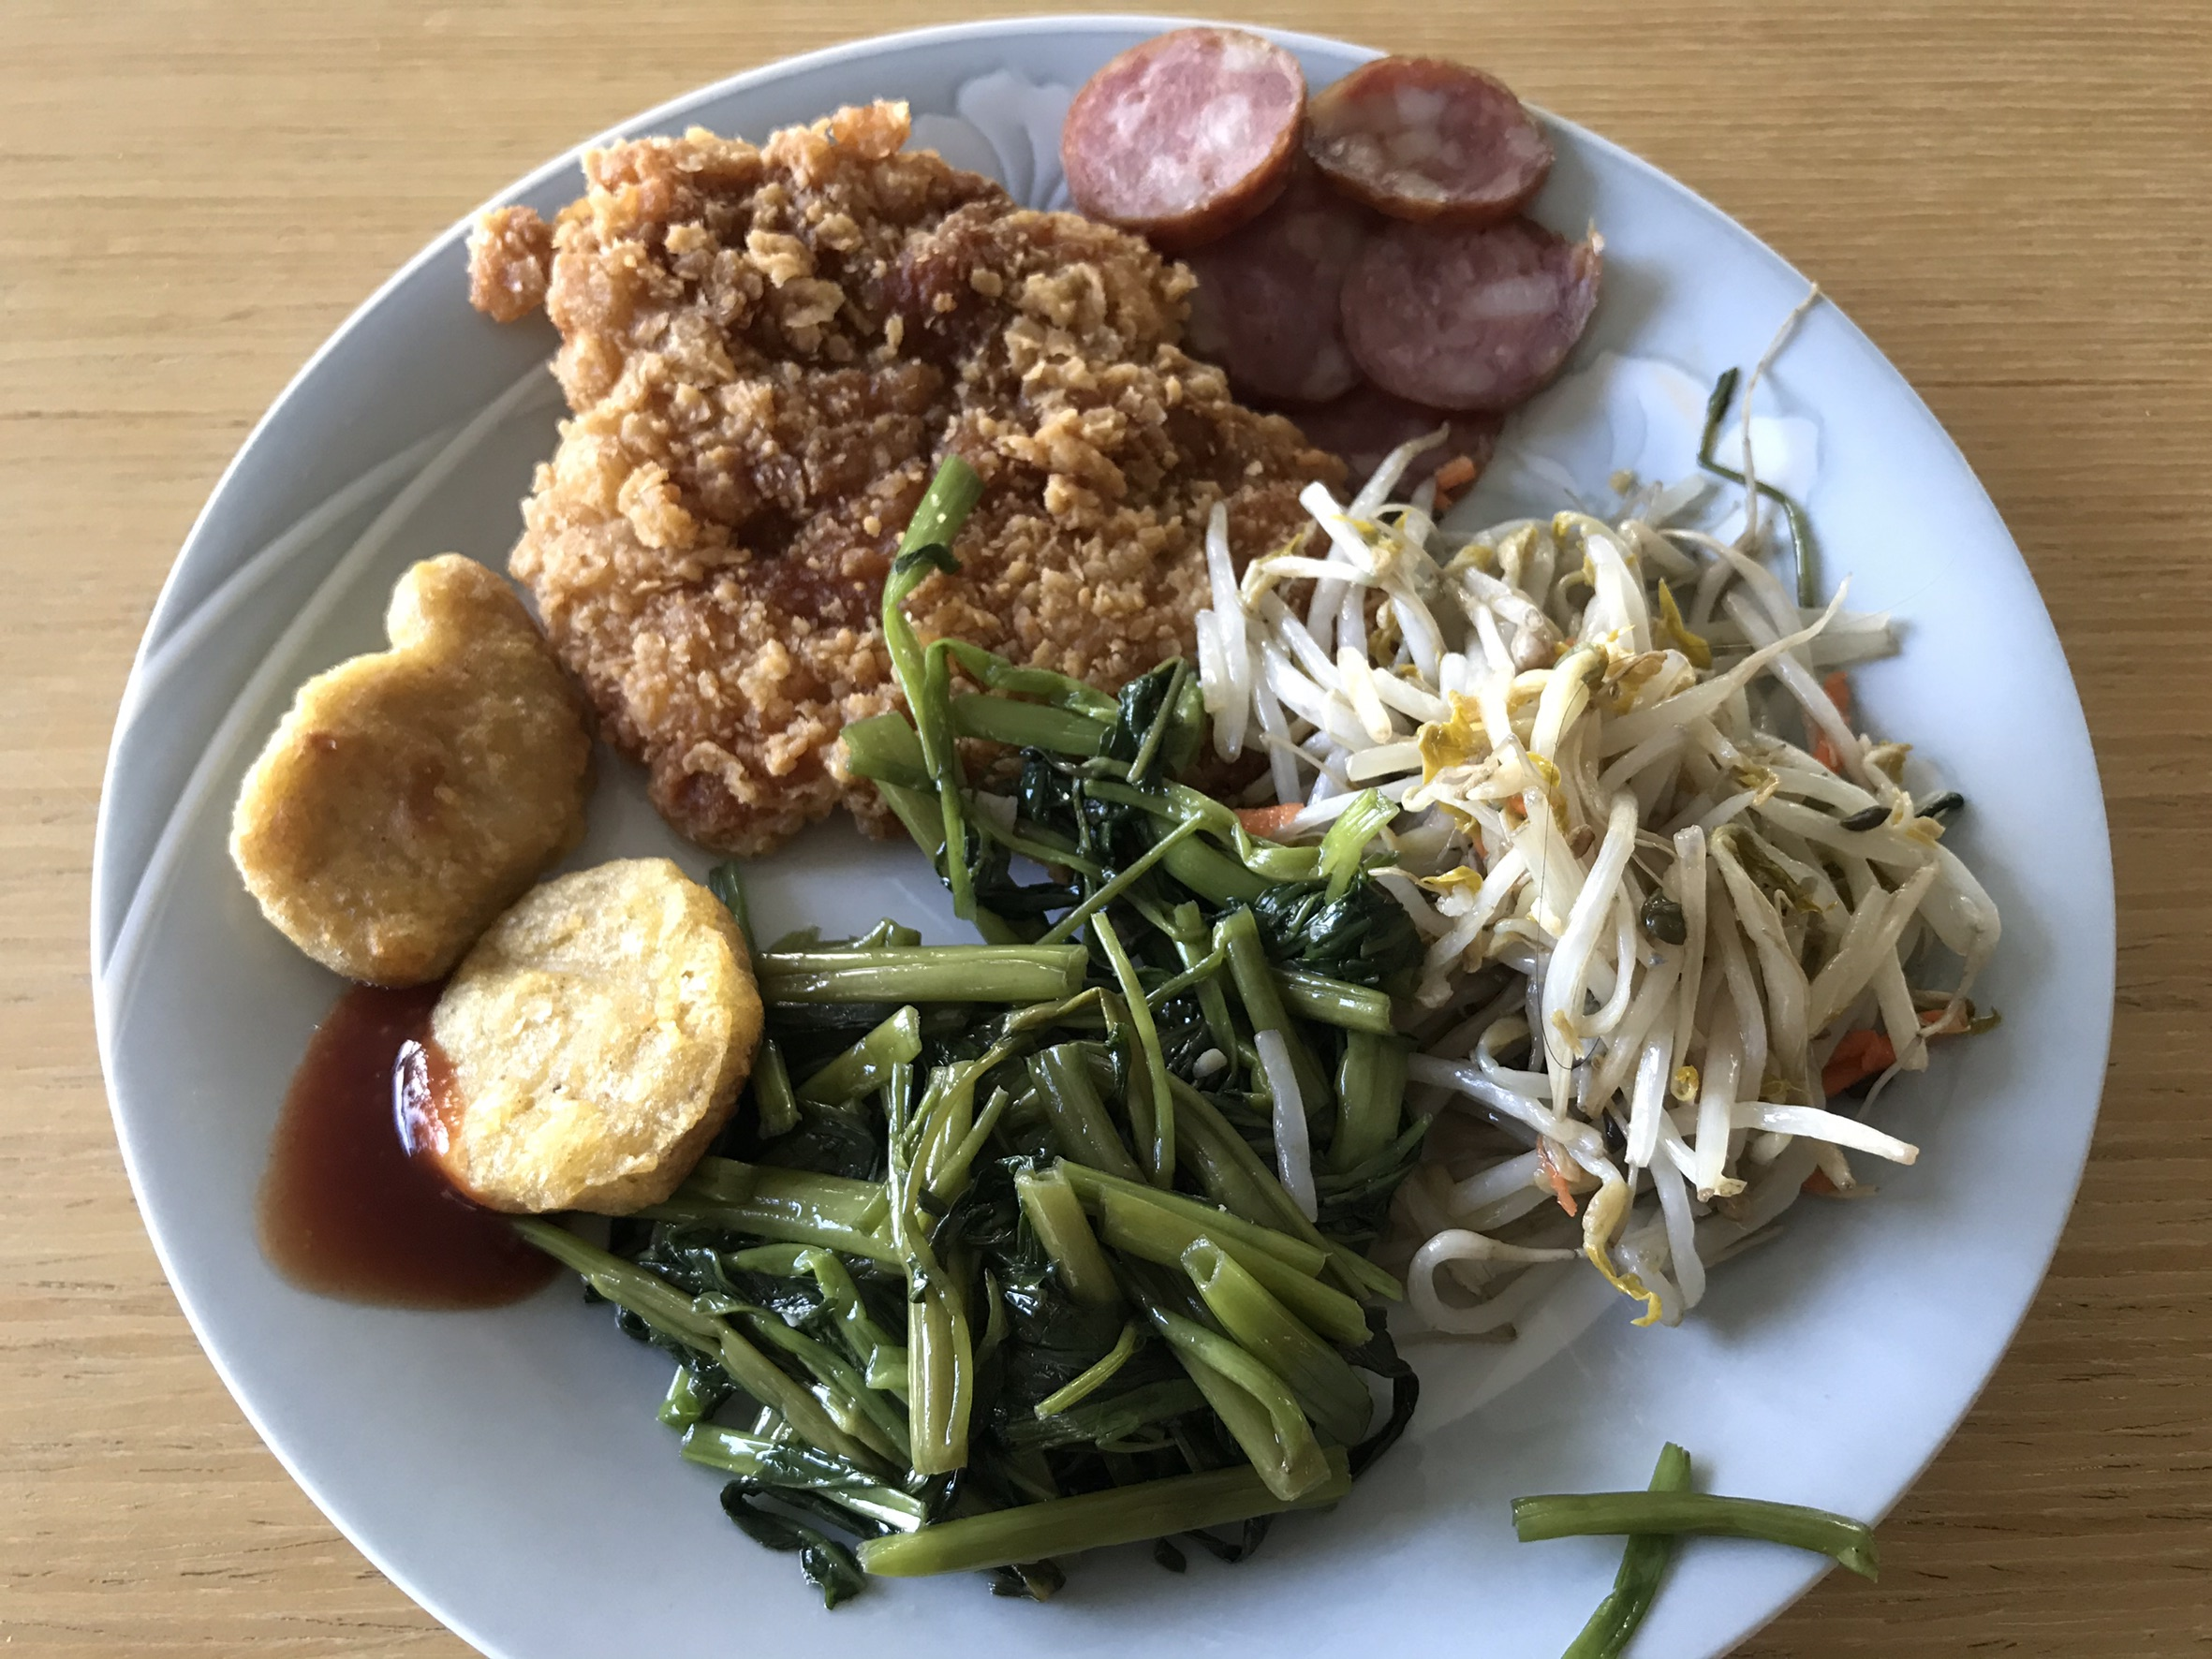chicken_nuggets: (237, 559, 762, 1218)
chinese_sausage: (1069, 28, 1607, 437)
fried_chicken: (471, 106, 1325, 856)
mung_bean_sprouts: (1333, 500, 1973, 1265)
water_spinach: (718, 868, 1419, 1588)
